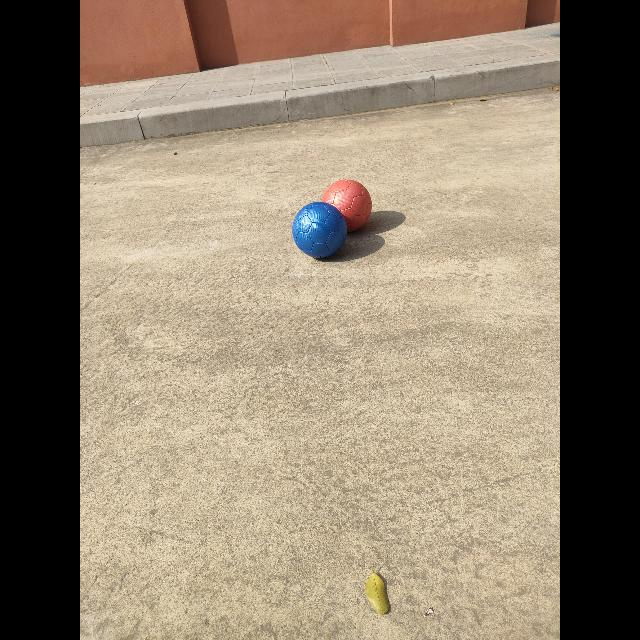B: (292, 201, 348, 259)
R: (322, 180, 371, 231)
